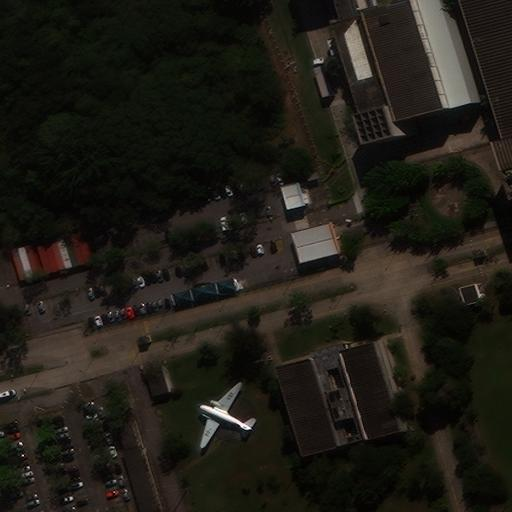Military Transport: (202, 388, 248, 443)
